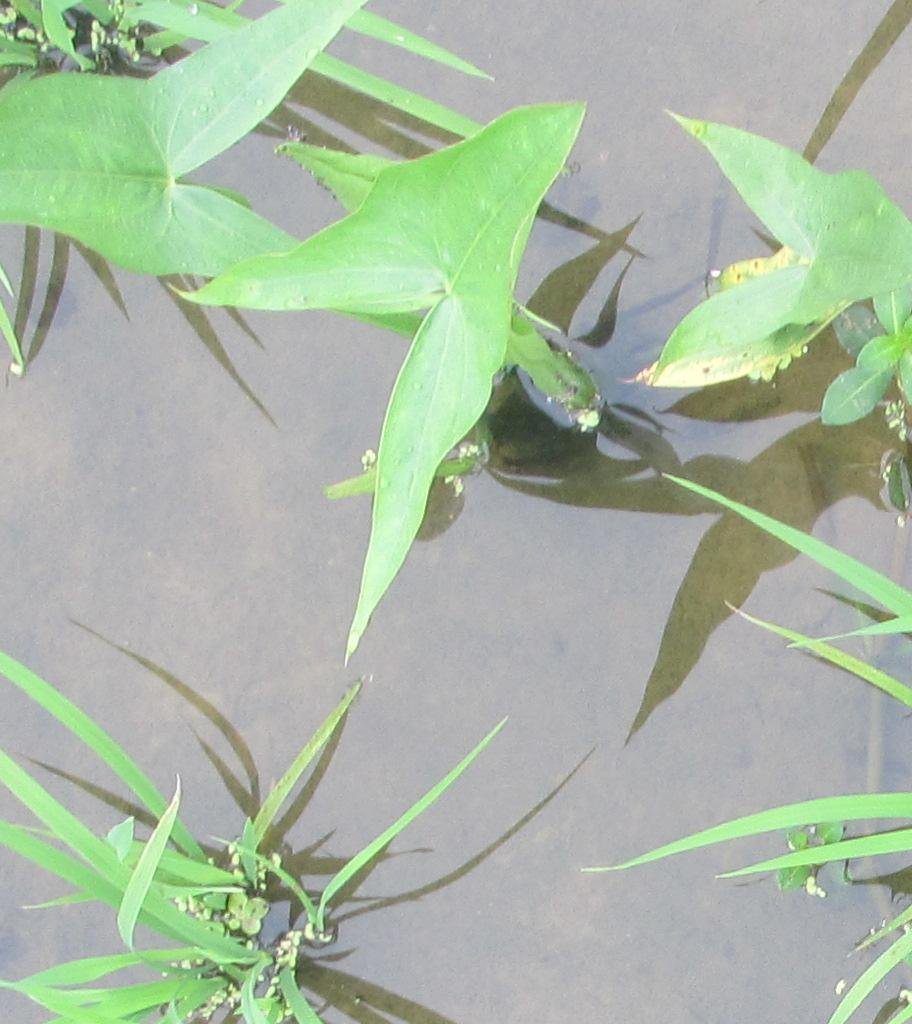Weed: (3, 61, 294, 302), (686, 113, 905, 399), (310, 102, 596, 319)
